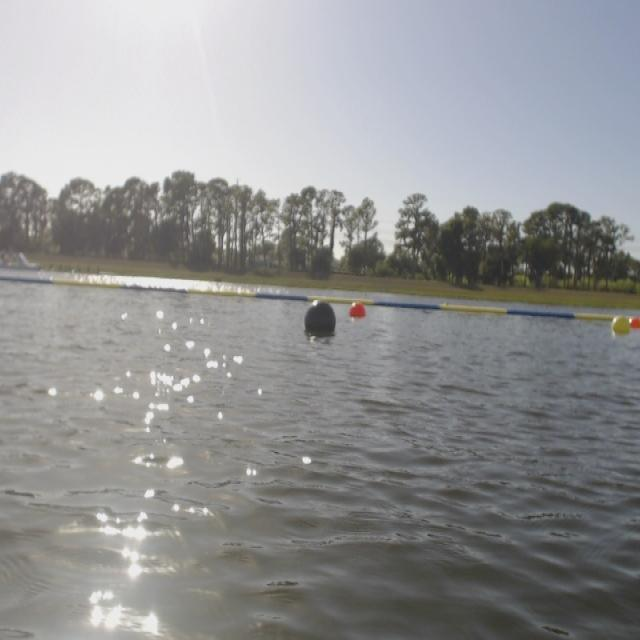Black_Buoy: (289, 303, 337, 342)
Orange__Buoy: (346, 300, 369, 318), (630, 314, 640, 334)
